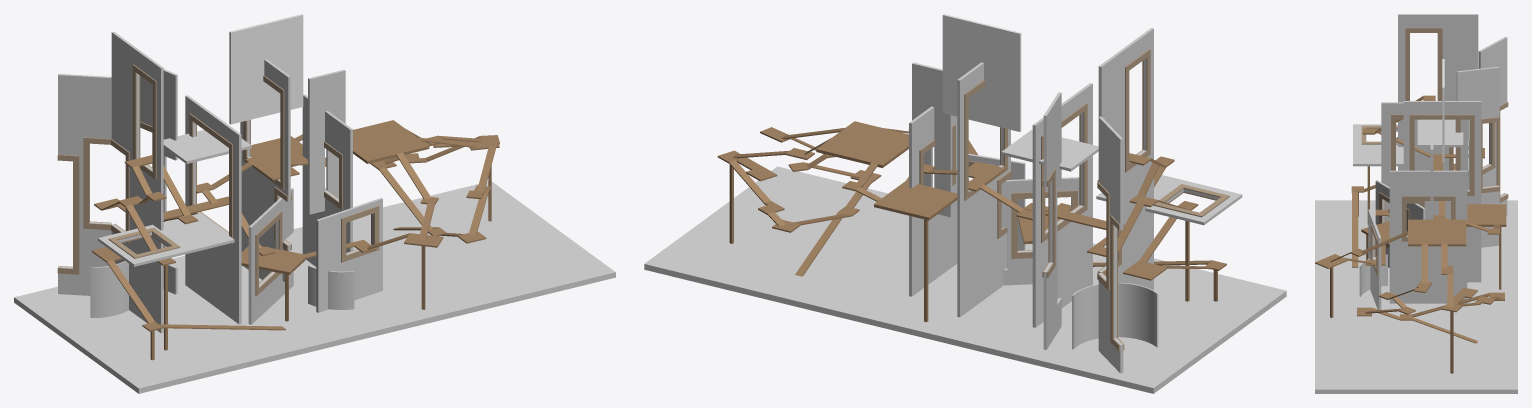
The picture shows the model from 3 angles, left to right: view 1: azimuth 30°, elevation 25°; view 2: azimuth 150°, elevation 25°; view 3: azimuth 270°, elevation 25°; orthographic projection. The views are drawn at different scales.
Parts seen in each view (by area): view 1: dizuo, 对象004, 对象008, lujing; view 2: dizuo, 对象004, 对象008, lujing; view 3: dizuo, 对象004, 对象008, lujing.
Boxes of the visible parts, x1,y1,x2,y2 form: dizuo: (14, 181, 615, 393); 对象004: (57, 31, 251, 333); 对象008: (229, 14, 382, 324); lujing: (92, 120, 499, 360); dizuo: (644, 166, 1286, 393); 对象004: (1001, 28, 1242, 373); 对象008: (909, 14, 1079, 317); lujing: (717, 121, 1226, 322); dizuo: (1315, 200, 1517, 393); 对象004: (1353, 14, 1508, 247); 对象008: (1359, 59, 1481, 309); lujing: (1315, 95, 1506, 373).
Size of the model in its own units: 9.23 by 5 by 4.18.
